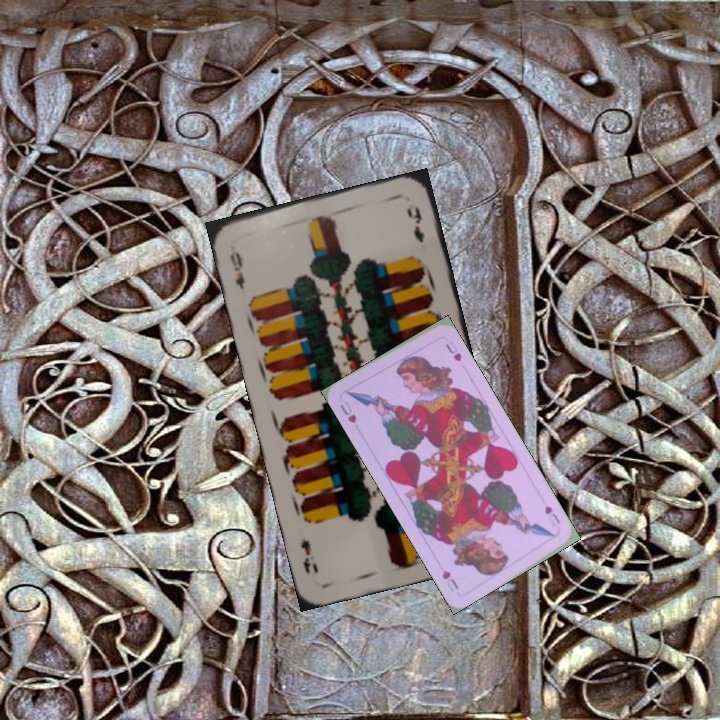E9: (225, 241, 247, 292)
HU: (336, 398, 359, 426), (540, 501, 563, 526)
